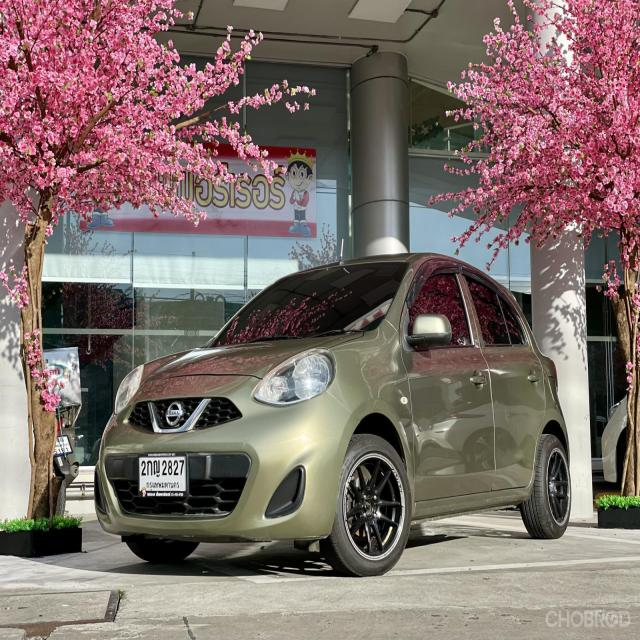license_plate: (136, 449, 188, 503)
